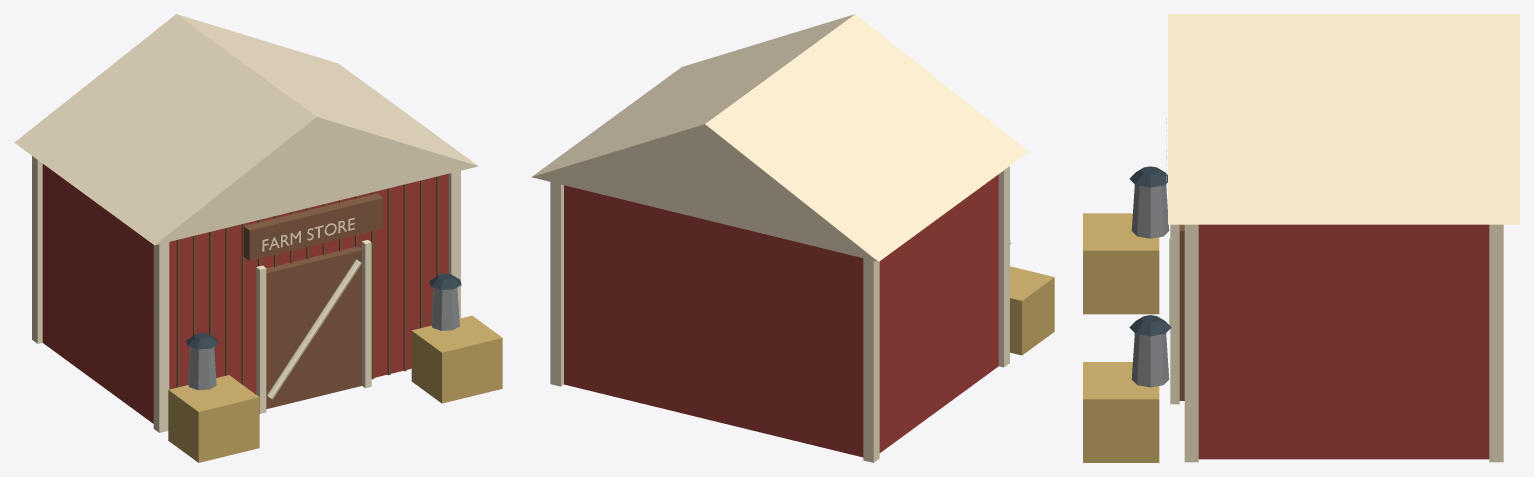
Rendered from farm_store.glb.
3 renders of one model, left to right at view 1: azimuth 30°, elevation 25°; view 2: azimuth 150°, elevation 25°; view 3: azimuth 270°, elevation 25°, orthographic. The views are drawn at different scales.
Parts seen in each view (by area): view 1: roof, barn, door, hay_bale.001, hay_bale, wooden_sign, corner_trim, corner_trim.001, door_trim, door_trim.001, corner_trim.002, door_brace (+9 smaller); view 2: barn, roof, corner_trim.001, hay_bale, corner_trim.003, corner_trim; view 3: roof, barn, hay_bale, hay_bale.001, corner_trim.003, corner_trim.002, door_trim.001, milk_can.001, milk_can, door, can_lid.001, can_lid.
Boxes of the visible parts, left/top/right/bottom form: roof: left=14, top=14, right=478, bottom=245; barn: left=42, top=164, right=448, bottom=423; door: left=266, top=246, right=361, bottom=408; hay_bale.001: left=411, top=315, right=502, bottom=403; hay_bale: left=168, top=375, right=259, bottom=462; wooden_sign: left=243, top=193, right=383, bottom=260; corner_trim: left=153, top=242, right=169, bottom=432; corner_trim.001: left=32, top=156, right=42, bottom=343; door_trim: left=256, top=265, right=266, bottom=413; door_trim.001: left=361, top=240, right=371, bottom=388; corner_trim.002: left=448, top=171, right=460, bottom=318; door_brace: left=267, top=259, right=361, bottom=399; barn: left=564, top=174, right=998, bottom=457; roof: left=531, top=14, right=1028, bottom=261; corner_trim.001: left=863, top=258, right=879, bottom=462; hay_bale: left=1010, top=266, right=1054, bottom=355; corner_trim.003: left=550, top=182, right=563, bottom=386; corner_trim: left=998, top=166, right=1009, bottom=367; roof: left=1168, top=14, right=1519, bottom=224; barn: left=1198, top=224, right=1489, bottom=459; hay_bale: left=1083, top=213, right=1159, bottom=314; hay_bale.001: left=1083, top=362, right=1159, bottom=462; corner_trim.003: left=1489, top=224, right=1503, bottom=462; corner_trim.002: left=1184, top=224, right=1198, bottom=462; door_trim.001: left=1170, top=224, right=1179, bottom=404; milk_can.001: left=1131, top=333, right=1169, bottom=387; milk_can: left=1131, top=184, right=1169, bottom=238; door: left=1179, top=224, right=1184, bottom=400; can_lid.001: left=1129, top=315, right=1171, bottom=336; can_lid: left=1129, top=166, right=1167, bottom=187.
Size of the model in its own units: 4 by 3.35 by 3.72.
